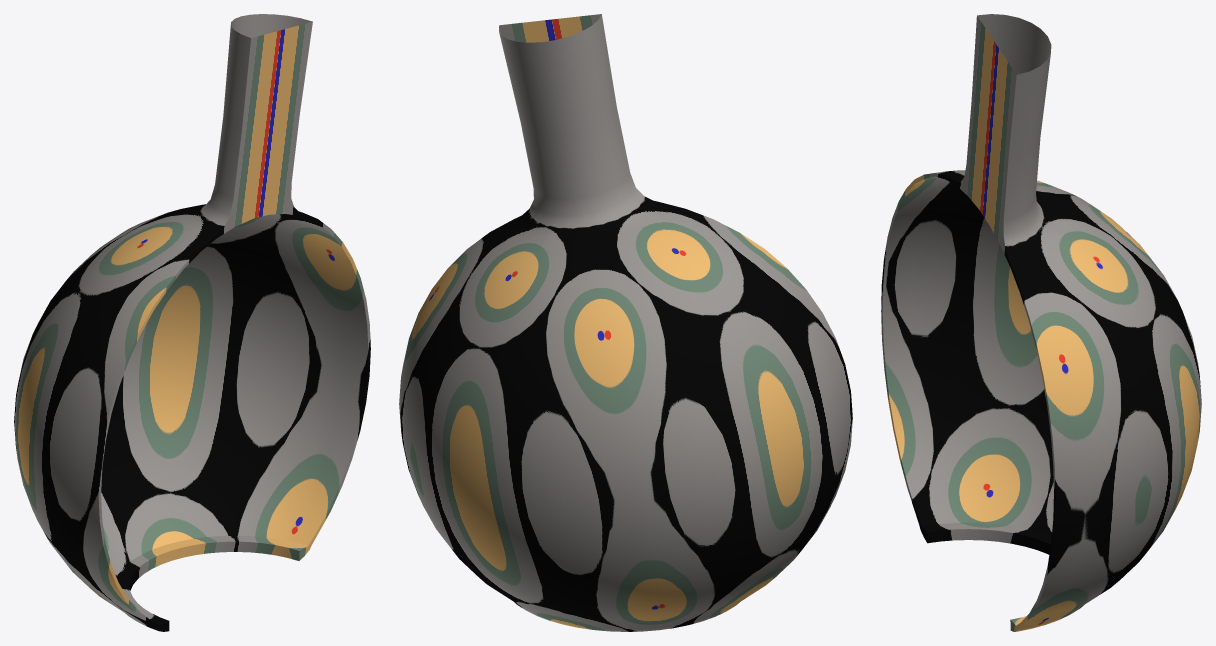
Rendered from SighEsc1.obj.
The picture shows the model from 3 angles, left to right: view 1: azimuth 30°, elevation 25°; view 2: azimuth 150°, elevation 25°; view 3: azimuth 270°, elevation 25°; orthographic projection. The views are drawn at different scales.
Parts seen in each view (by area): view 1: SighEsc1; view 2: SighEsc1; view 3: SighEsc1.
Boxes of the visible parts, x1,y1,x2,y2 form: SighEsc1: (14,14,370,631); SighEsc1: (399,14,852,631); SighEsc1: (881,14,1201,631).
Size of the model in its own units: 95.24 by 136 by 67.84.
